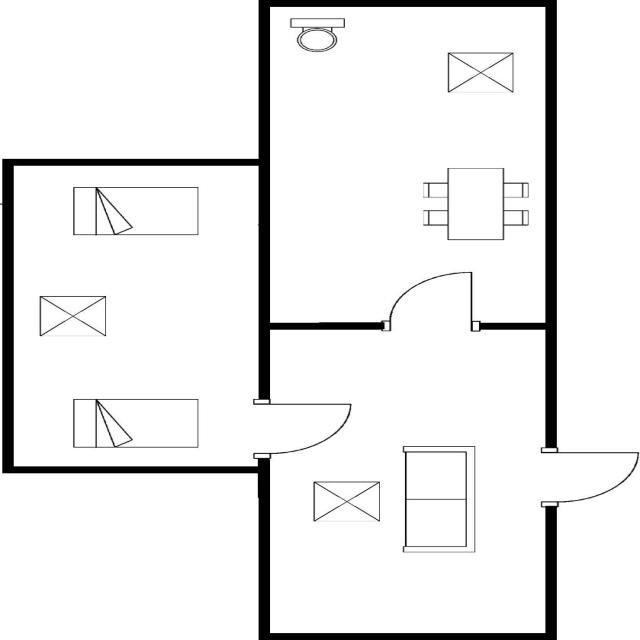bed: (66, 182, 202, 239), (66, 395, 204, 451)
coffee_table: (304, 477, 388, 525), (442, 47, 518, 98), (34, 291, 110, 341)
dining_table: (417, 161, 532, 243)
large_sink: (288, 15, 350, 54)
large_sofa: (397, 442, 483, 558)
